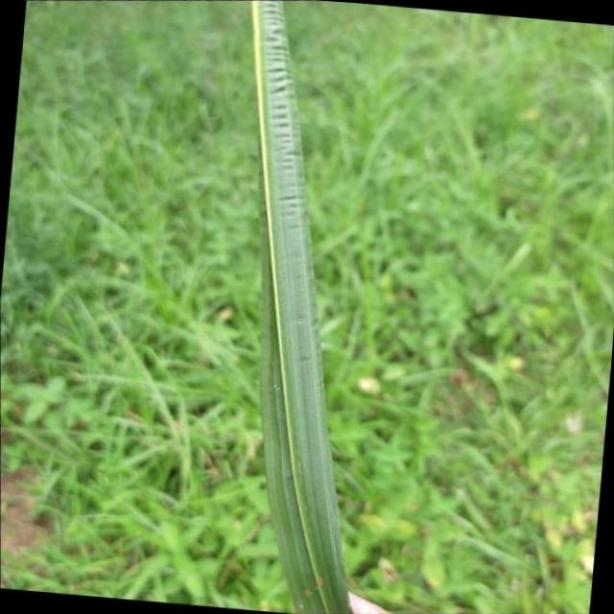Boron: (243, 0, 353, 608)
